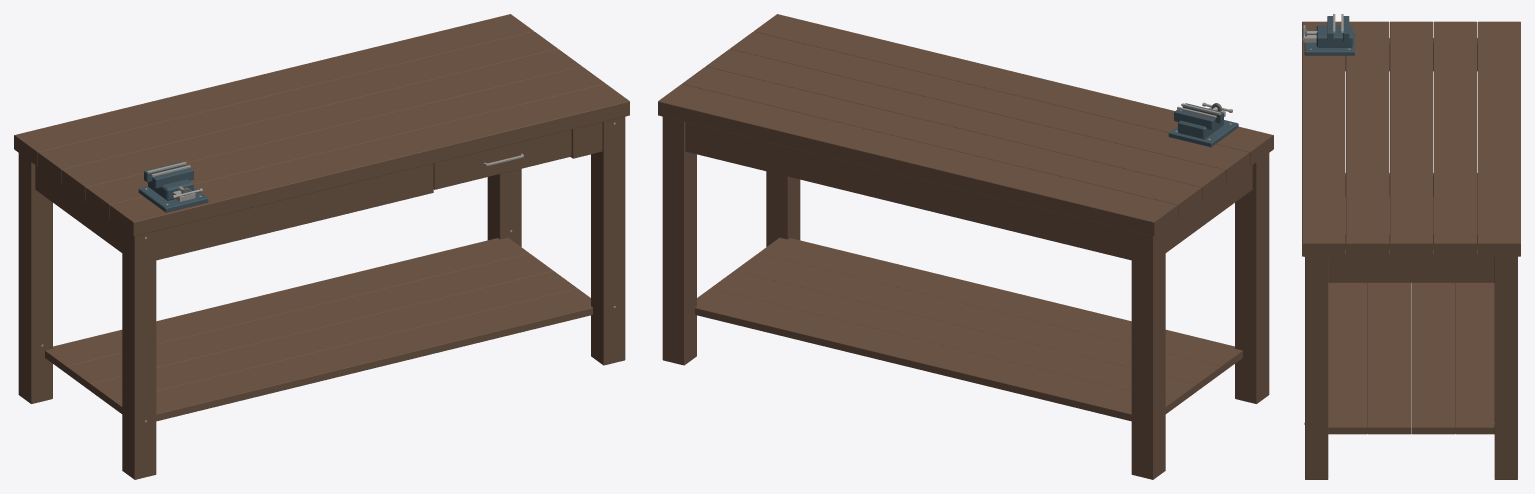
Rendered from workbench-6b1e5e59650b.glb.
The picture shows the model from 3 angles, left to right: view 1: azimuth 30°, elevation 25°; view 2: azimuth 150°, elevation 25°; view 3: azimuth 270°, elevation 25°; orthographic projection. The views are drawn at different scales.
Parts seen in each view (by area): view 1: wood, enamel-blue, brushed; view 2: wood, enamel-blue; view 3: wood, enamel-blue, brushed.
Boxes of the visible parts, x1,y1,x2,y2 form: wood: (14, 14, 629, 479); enamel-blue: (138, 161, 208, 212); brushed: (41, 122, 615, 422); wood: (658, 14, 1273, 479); enamel-blue: (1168, 103, 1238, 147); wood: (1302, 21, 1520, 479); enamel-blue: (1304, 16, 1354, 55); brushed: (1302, 14, 1494, 424).
Size of the model in its own units: 1.8 by 0.99 by 0.75.
